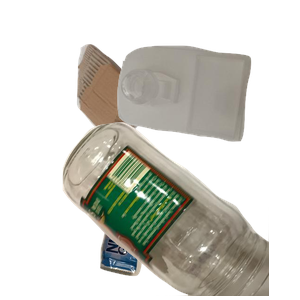cardboard: (74, 42, 225, 170)
glass: (60, 120, 300, 300)
plastic: (115, 43, 300, 177)
trash: (97, 152, 248, 300)
